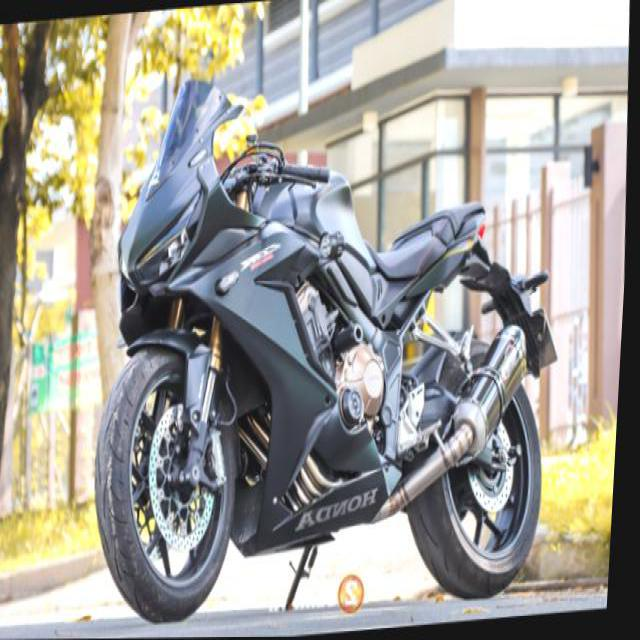CBR650R: (77, 44, 583, 635)
